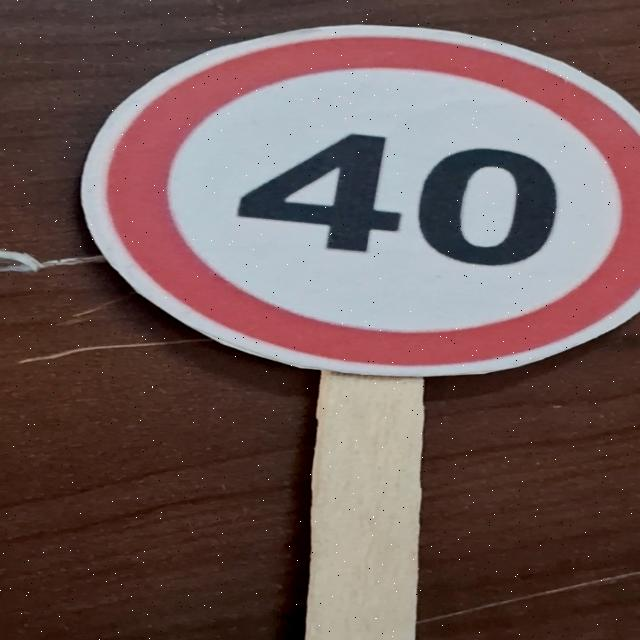Speed40: (80, 12, 640, 379)
